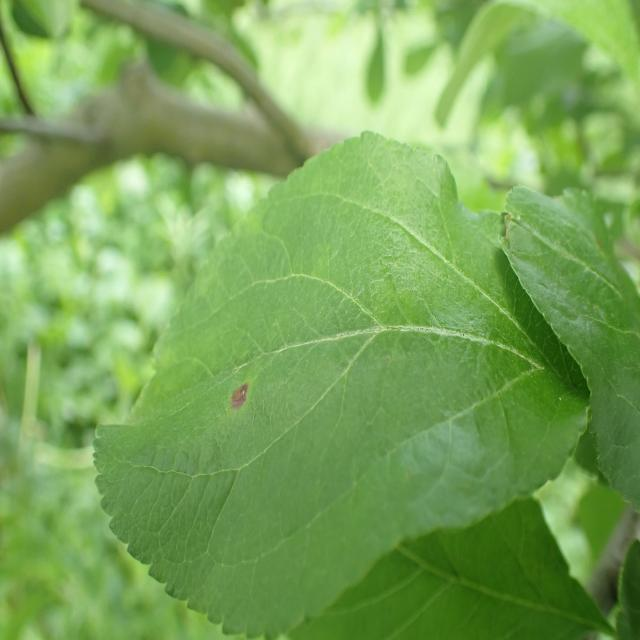frog-eye-leaf-spot: (90, 129, 592, 638)
